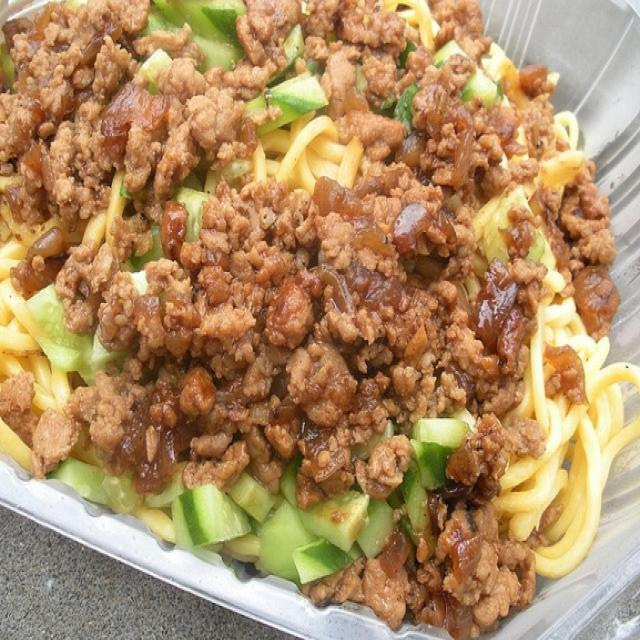面条主食: (11, 10, 618, 608)
